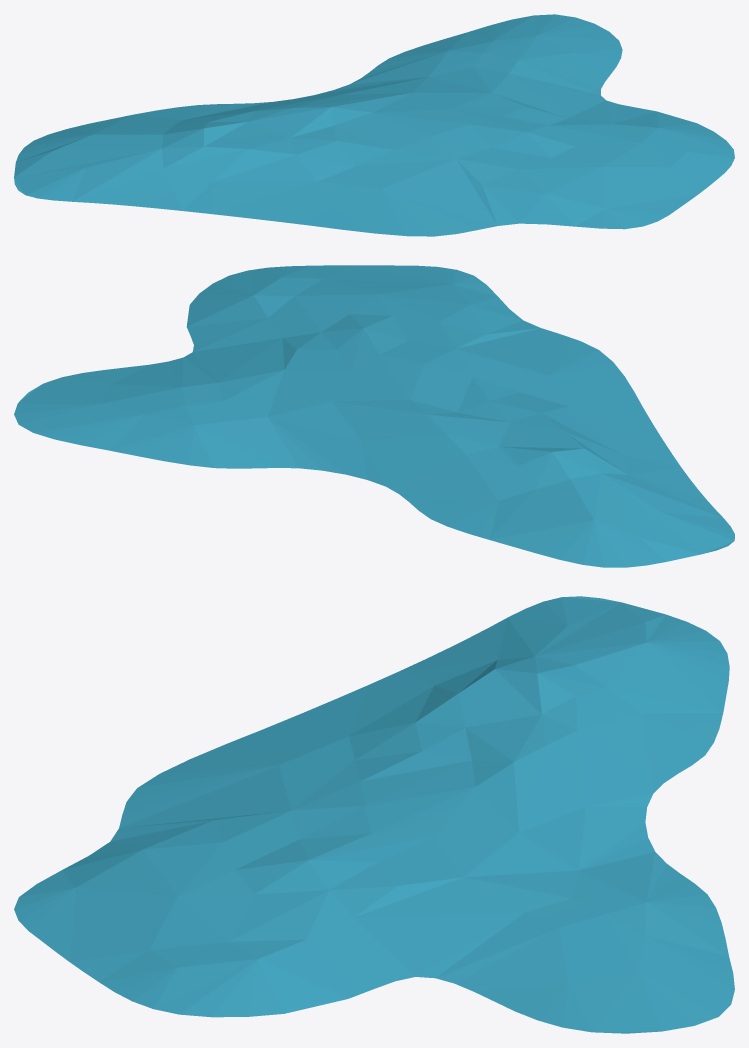
The model's file is SM_Env_Beach_Pile_01.glb.
3 renders of one model, top to bottom at view 1: azimuth 30°, elevation 25°; view 2: azimuth 150°, elevation 25°; view 3: azimuth 270°, elevation 25°, orthographic. The views are drawn at different scales.
Visible parts, largest first — view 1: SM_Env_Beach_Pile_01; view 2: SM_Env_Beach_Pile_01; view 3: SM_Env_Beach_Pile_01.
Boxes of the visible parts, left/top/right/bottom form: SM_Env_Beach_Pile_01: left=14, top=14, right=734, bottom=236; SM_Env_Beach_Pile_01: left=14, top=265, right=734, bottom=567; SM_Env_Beach_Pile_01: left=14, top=596, right=734, bottom=1033.
Bounding box in the file's own units: 0.0544 × 0.00276 × 0.038.
